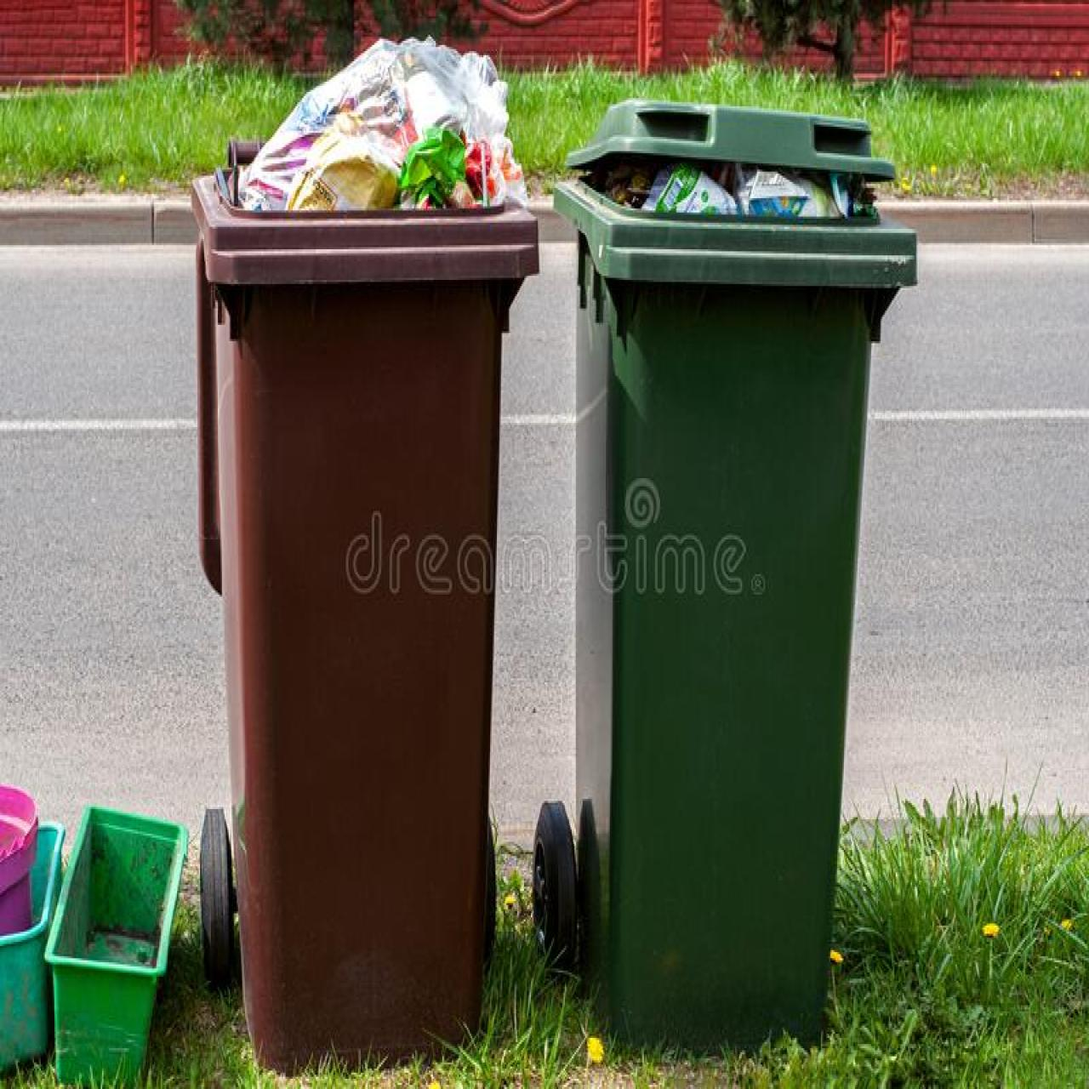bin_full: (533, 100, 915, 1049), (192, 42, 538, 1071)
bulk_waste: (45, 807, 187, 1083)
